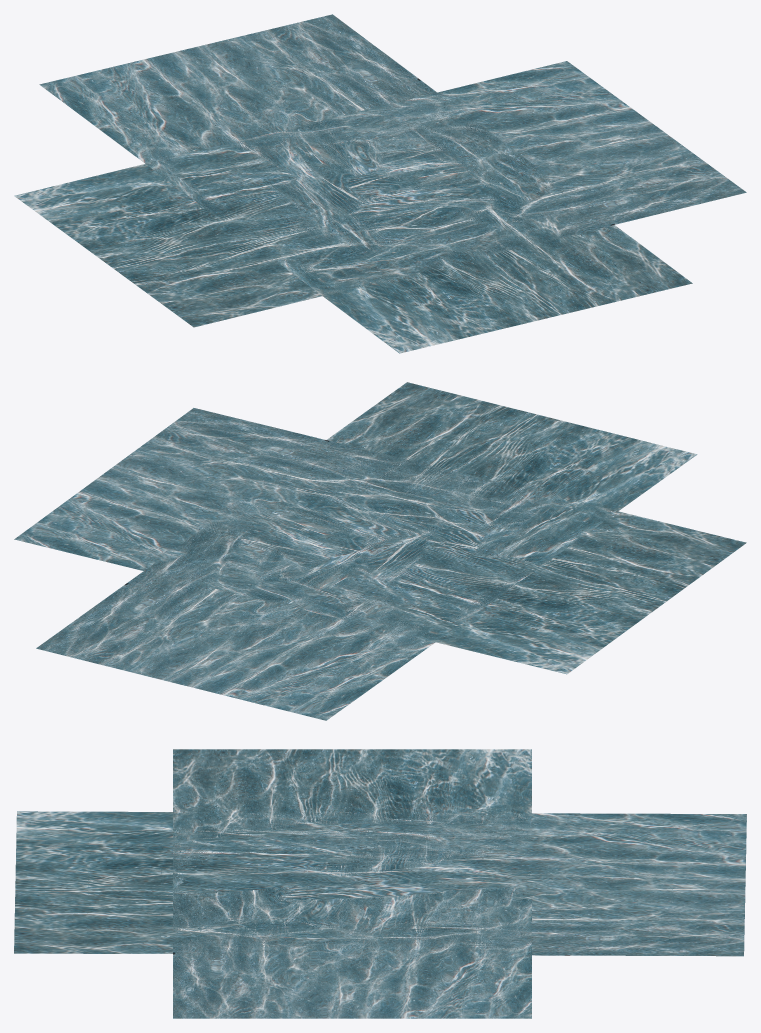
Rendered from agua.obj.
3 views of the same model, one above another, from view 1: azimuth 30°, elevation 25°; view 2: azimuth 150°, elevation 25°; view 3: azimuth 270°, elevation 25° (orthographic).
Visible parts, largest first — view 1: pPlane2; view 2: pPlane2; view 3: pPlane2.
Part boxes in pixels (x1,y1,x2,y2): pPlane2: (14, 14, 746, 353); pPlane2: (14, 382, 746, 720); pPlane2: (14, 749, 746, 1018).
Size of the model in its own units: 5.18 by 0 by 5.96.
Materials: 1 (1 with a texture image).
